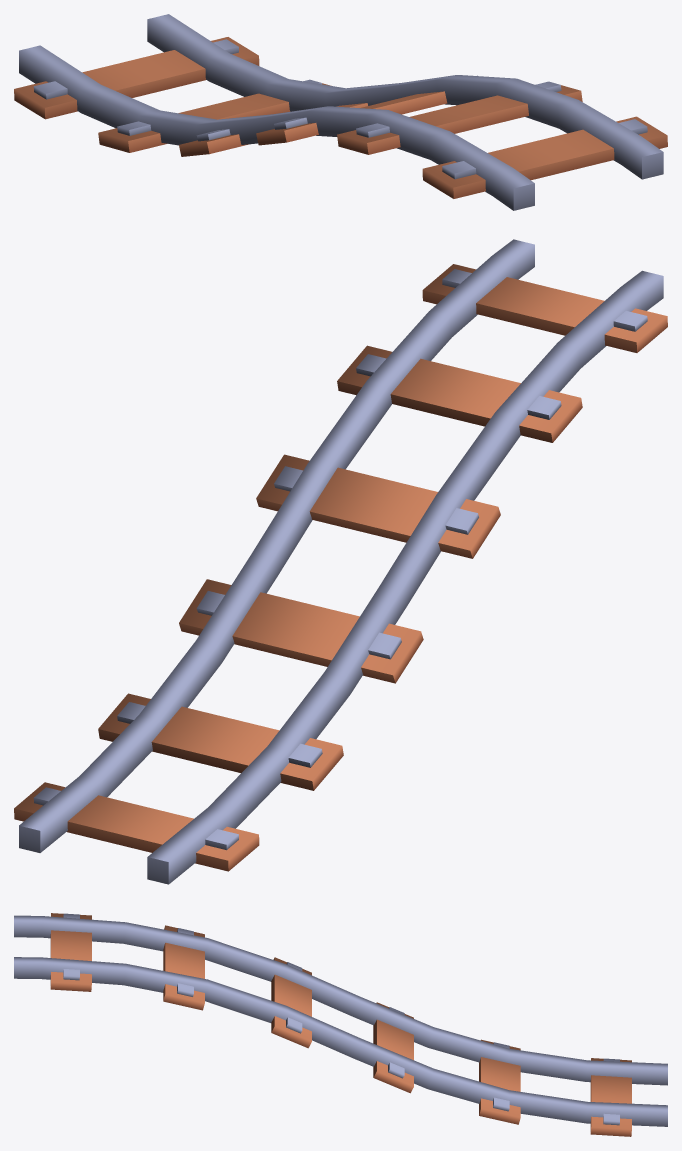
Rendered from railroad-straight-hill-complete.glb.
3 views of the same model, one above another, from view 1: azimuth 30°, elevation 25°; view 2: azimuth 150°, elevation 25°; view 3: azimuth 270°, elevation 25° (orthographic). The views are drawn at different scales.
Parts seen in each view (by area): view 1: railroad-straight-hill-complete; view 2: railroad-straight-hill-complete; view 3: railroad-straight-hill-complete.
Boxes of the visible parts, left/top/right/bottom form: railroad-straight-hill-complete: left=14, top=14, right=667, bottom=210; railroad-straight-hill-complete: left=14, top=239, right=667, bottom=884; railroad-straight-hill-complete: left=14, top=913, right=667, bottom=1136.
Bounding box in the file's own units: 1 × 1.1 × 4.
